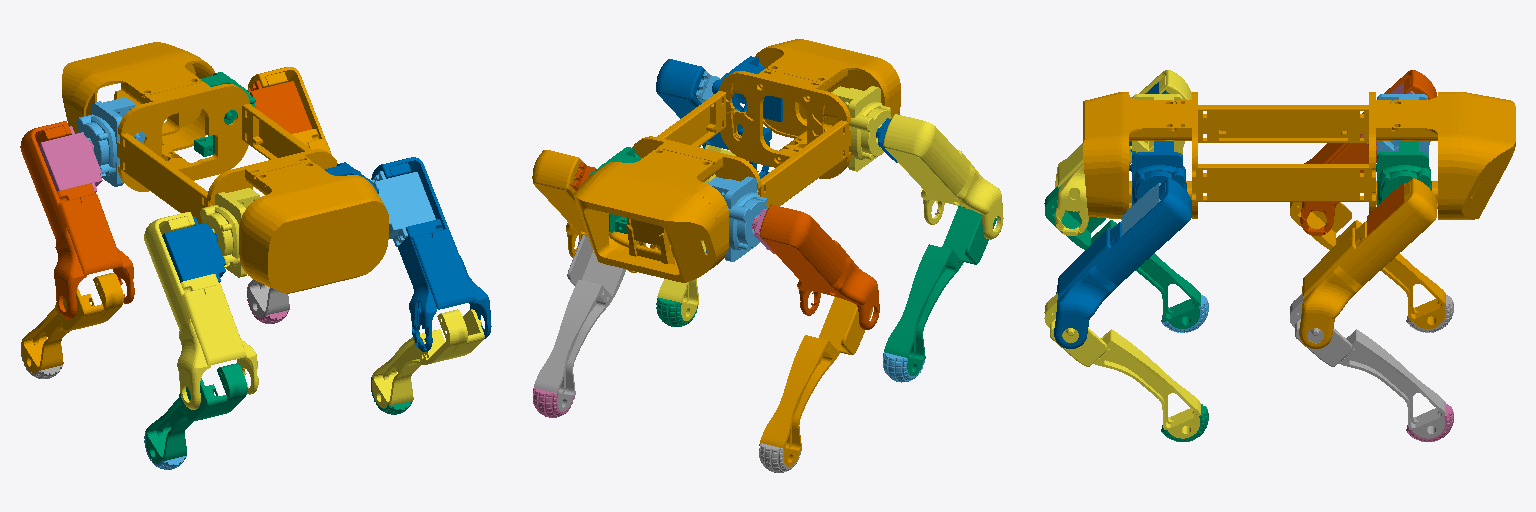
--- Facts derived from the render (not from the file) ---
The picture shows the robot from 3 angles, left to right: view 1: azimuth 30°, elevation 25°; view 2: azimuth 150°, elevation 25°; view 3: azimuth 270°, elevation 25°; orthographic projection.
Robot: spot_mini_3 — 21 links, 20 joints (12 continuous, 8 fixed); root link base_link; default pose: all joints at 0.
Links seen in each view (by area): view 1: base_link, BL_Arm1BL_Upper_Leg1, FL_Arm_11FL_Upper_Leg1, BR_Arm1BR_Upper_Leg1, BR_Arm1BR_lower_Leg1, BL_Arm1BL_lower_Leg_1, FL_Arm_11FL_lower_Leg1, BL_Arm1BL_motor1, FL_Arm_11FL_motor1, BR_Arm1BR_motor1, FL_Arm_11FL_shoulder1, BL_Arm1BL_shoulder1 (+4 smaller); view 2: base_link, FL_Arm_11FL_Upper_Leg1, BL_Arm1BL_Upper_Leg1, BL_Arm1BL_lower_Leg_1, FL_Arm_11FL_lower_Leg1, FR_Arm1FR_lower_Leg1, FR_Arm1FR_Upper_Leg1, BL_Arm1BL_shoulder1, FL_Arm_11FL_shoulder1, BR_Arm1BR_Upper_Leg1, BR_Arm1BR_shoulder1, BR_Arm1BR_lower_Leg1 (+5 smaller); view 3: base_link, BR_Arm1BR_Upper_Leg1, FR_Arm1FR_Upper_Leg1, BR_Arm1BR_lower_Leg1, FR_Arm1FR_lower_Leg1, FL_Arm_11FL_lower_Leg1, BL_Arm1BL_lower_Leg_1, BL_Arm1BL_Upper_Leg1, FL_Arm_11FL_Upper_Leg1, BR_Arm1BR_shoulder1, FR_Arm1FR_shoulder1, FR_Arm1FR_motor1 (+3 smaller).
Boxes of the visible links, <box> form: base_link: <box>62,42,388,293</box>; BL_Arm1BL_Upper_Leg1: <box>144,212,258,409</box>; FL_Arm_11FL_Upper_Leg1: <box>20,121,134,318</box>; BR_Arm1BR_Upper_Leg1: <box>371,157,491,351</box>; BR_Arm1BR_lower_Leg1: <box>372,309,484,408</box>; BL_Arm1BL_lower_Leg_1: <box>145,363,247,463</box>; FL_Arm_11FL_lower_Leg1: <box>22,273,123,372</box>; BL_Arm1BL_motor1: <box>162,217,225,282</box>; FL_Arm_11FL_motor1: <box>38,126,102,192</box>; BR_Arm1BR_motor1: <box>372,171,435,246</box>; FL_Arm_11FL_shoulder1: <box>76,97,145,186</box>; BL_Arm1BL_shoulder1: <box>200,188,259,277</box>; base_link: <box>574,39,900,282</box>; FL_Arm_11FL_Upper_Leg1: <box>760,204,879,329</box>; BL_Arm1BL_Upper_Leg1: <box>883,114,1003,239</box>; BL_Arm1BL_lower_Leg_1: <box>884,206,996,375</box>; FL_Arm_11FL_lower_Leg1: <box>760,296,872,466</box>; FR_Arm1FR_lower_Leg1: <box>534,235,626,411</box>; FR_Arm1FR_Upper_Leg1: <box>532,150,646,272</box>; BL_Arm1BL_shoulder1: <box>831,86,891,171</box>; FL_Arm_11FL_shoulder1: <box>706,176,767,261</box>; BR_Arm1BR_Upper_Leg1: <box>656,59,769,178</box>; BR_Arm1BR_shoulder1: <box>712,56,782,142</box>; BR_Arm1BR_lower_Leg1: <box>657,144,748,320</box>; base_link: <box>1083,92,1515,219</box>; BR_Arm1BR_Upper_Leg1: <box>1054,178,1191,348</box>; FR_Arm1FR_Upper_Leg1: <box>1299,178,1436,348</box>; BR_Arm1BR_lower_Leg1: <box>1044,293,1200,438</box>; FR_Arm1FR_lower_Leg1: <box>1290,293,1445,438</box>; FL_Arm_11FL_lower_Leg1: <box>1290,202,1445,328</box>; BL_Arm1BL_lower_Leg_1: <box>1044,186,1200,328</box>; BL_Arm1BL_Upper_Leg1: <box>1055,70,1191,235</box>; FL_Arm_11FL_Upper_Leg1: <box>1300,70,1436,235</box>; BR_Arm1BR_shoulder1: <box>1129,141,1186,205</box>; FR_Arm1FR_shoulder1: <box>1376,141,1431,205</box>; FR_Arm1FR_motor1: <box>1366,183,1405,235</box>.
Bounding box of the posed robot: 0.2546 × 0.3511 × 0.2236 m (x, y, z).
Meshes: 21 distinct files referenced, 21 mesh visuals loaded (21 binary STL).

URDF robot description (spot_mini_3):
<?xml version="1.0" ?>
<robot name="spot_mini_3">

<material name="silver">
  <color rgba="0.700 0.700 0.700 1.000"/>
</material>

<link name="base_link">
  <inertial>
    <origin xyz="0.15055773216211757 0.1546306649325129 0.4145956403783646" rpy="0 0 0"/>
    <mass value="1.5"/>
    <inertia ixx="0.007855785006969873" iyy="0.0010119233592134347" izz="0.00812257204073424" ixy="4.931740771303358e-06" iyz="-7.559534854537087e-05" ixz="-8.42877370531292e-07"/>
  </inertial>
  <visual>
    <origin xyz="0 0 0" rpy="0 0 0"/>
    <geometry>
      <mesh filename="meshes/base_link.stl" scale="0.001 0.001 0.001"/>
    </geometry>
    <material name="silver"/>
    <material/>
  </visual>
  <collision>
    <origin xyz="0 0 0" rpy="0 0 0"/>
    <geometry>
      <mesh filename="meshes/base_link.stl" scale="0.001 0.001 0.001"/>
    </geometry>
  </collision>
</link>

<link name="FL_Arm_11FL_shoulder1">
  <inertial>
    <origin xyz="-0.01226341546823101 0.023797965913628122 -0.01047848981209304" rpy="0 0 0"/>
    <mass value="0.0010460322298815623"/>
    <inertia ixx="4.5894426660159776e-07" iyy="3.9412489574998876e-07" izz="2.4792830692763805e-07" ixy="2.3383310631803865e-08" iyz="1.0697598474640555e-09" ixz="2.6589199819768844e-09"/>
  </inertial>
  <visual>
    <origin xyz="-0.111622 -0.218934 -0.418766" rpy="0 0 0"/>
    <geometry>
      <mesh filename="meshes/FL_Arm_11FL_shoulder1.stl" scale="0.001 0.001 0.001"/>
    </geometry>
    <material name="silver"/>
    <material/>
  </visual>
  <collision>
    <origin xyz="-0.111622 -0.218934 -0.418766" rpy="0 0 0"/>
    <geometry>
      <mesh filename="meshes/FL_Arm_11FL_shoulder1.stl" scale="0.001 0.001 0.001"/>
    </geometry>
  </collision>
</link>

<link name="FR_Arm1FR_shoulder1">
  <inertial>
    <origin xyz="0.01226272266518752 0.023797965913627983 -0.010478492514241933" rpy="0 0 0"/>
    <mass value="0.0010460322298815618"/>
    <inertia ixx="4.5894426660159776e-07" iyy="3.9412489574990744e-07" izz="2.479283069276245e-07" ixy="-2.338331063181403e-08" iyz="1.0697598474640555e-09" ixz="-2.6589199819768844e-09"/>
  </inertial>
  <visual>
    <origin xyz="-0.189622 -0.218934 -0.418766" rpy="0 0 0"/>
    <geometry>
      <mesh filename="meshes/FR_Arm1FR_shoulder1.stl" scale="0.001 0.001 0.001"/>
    </geometry>
    <material name="silver"/>
    <material/>
  </visual>
  <collision>
    <origin xyz="-0.189622 -0.218934 -0.418766" rpy="0 0 0"/>
    <geometry>
      <mesh filename="meshes/FR_Arm1FR_shoulder1.stl" scale="0.001 0.001 0.001"/>
    </geometry>
  </collision>
</link>

<link name="BL_Arm1BL_shoulder1">
  <inertial>
    <origin xyz="-0.012263291259574427 0.02154805695734561 -0.010479404940207604" rpy="0 0 0"/>
    <mass value="0.0010460322298815623"/>
    <inertia ixx="4.5894426660165197e-07" iyy="3.9412489575001586e-07" izz="2.479283069276177e-07" ixy="2.3383310631803865e-08" iyz="1.0697598474572793e-09" ixz="2.6589199819768844e-09"/>
  </inertial>
  <visual>
    <origin xyz="-0.111622 -0.038434 -0.418767" rpy="0 0 0"/>
    <geometry>
      <mesh filename="meshes/BL_Arm1BL_shoulder1.stl" scale="0.001 0.001 0.001"/>
    </geometry>
    <material name="silver"/>
    <material/>
  </visual>
  <collision>
    <origin xyz="-0.111622 -0.038434 -0.418767" rpy="0 0 0"/>
    <geometry>
      <mesh filename="meshes/BL_Arm1BL_shoulder1.stl" scale="0.001 0.001 0.001"/>
    </geometry>
  </collision>
</link>

<link name="BR_Arm1BR_shoulder1">
  <inertial>
    <origin xyz="0.012262846873844435 0.021548056957345726 -0.01047940764235411" rpy="0 0 0"/>
    <mass value="0.0010460322298815618"/>
    <inertia ixx="4.5894426660162487e-07" iyy="3.9412489574998876e-07" izz="2.479283069276177e-07" ixy="-2.338331063180217e-08" iyz="1.0697598474674436e-09" ixz="-2.658919981990437e-09"/>
  </inertial>
  <visual>
    <origin xyz="-0.189622 -0.038434 -0.418767" rpy="0 0 0"/>
    <geometry>
      <mesh filename="meshes/BR_Arm1BR_shoulder1.stl" scale="0.001 0.001 0.001"/>
    </geometry>
    <material name="silver"/>
    <material/>
  </visual>
  <collision>
    <origin xyz="-0.189622 -0.038434 -0.418767" rpy="0 0 0"/>
    <geometry>
      <mesh filename="meshes/BR_Arm1BR_shoulder1.stl" scale="0.001 0.001 0.001"/>
    </geometry>
  </collision>
</link>

<link name="FL_Arm_11FL_Upper_Leg1">
  <inertial>
    <origin xyz="-0.01800811022483563 -0.011112728510592251 -0.014773561322106554" rpy="0 0 0"/>
    <mass value="0.0035863240208185553"/>
    <inertia ixx="4.407468997596185e-06" iyy="2.68431105878179e-06" izz="2.847838497458202e-06" ixy="-1.235396651983107e-08" iyz="-1.9578915731026402e-06" ixz="-8.752157331336219e-09"/>
  </inertial>
  <visual>
    <origin xyz="-0.069356 -0.223247 -0.386579" rpy="0 0 0"/>
    <geometry>
      <mesh filename="meshes/FL_Arm_11FL_Upper_Leg1.stl" scale="0.001 0.001 0.001"/>
    </geometry>
    <material name="silver"/>
    <material/>
  </visual>
  <collision>
    <origin xyz="-0.069356 -0.223247 -0.386579" rpy="0 0 0"/>
    <geometry>
      <mesh filename="meshes/FL_Arm_11FL_Upper_Leg1.stl" scale="0.001 0.001 0.001"/>
    </geometry>
  </collision>
</link>

<link name="FL_Arm_11FL_motor1">
  <inertial>
    <origin xyz="-0.02803534463866813 -0.007018715988031665 -0.007018198166182044" rpy="0 0 0"/>
    <mass value="0.08567670259846816"/>
    <inertia ixx="1.4918093587314163e-05" iyy="1.8254630334708574e-05" izz="1.8254629313898402e-05" ixy="-3.2162770326454176e-07" iyz="-4.640045534682127e-06" ixz="-3.216275840200837e-07"/>
  </inertial>
  <visual>
    <origin xyz="-0.090322 -0.244689 -0.408021" rpy="0 0 0"/>
    <geometry>
      <mesh filename="meshes/FL_Arm_11FL_motor1.stl" scale="0.001 0.001 0.001"/>
    </geometry>
    <material name="silver"/>
    <material/>
  </visual>
  <collision>
    <origin xyz="-0.090322 -0.244689 -0.408021" rpy="0 0 0"/>
    <geometry>
      <mesh filename="meshes/FL_Arm_11FL_motor1.stl" scale="0.001 0.001 0.001"/>
    </geometry>
  </collision>
</link>

<link name="FL_Arm_11FL_Foot1">
  <inertial>
    <origin xyz="0.010005471260456554 0.004552095230761277 -0.008934825902760207" rpy="0 0 0"/>
    <mass value="0.003237400185672279"/>
    <inertia ixx="5.216745834557904e-07" iyy="2.3994666300297435e-07" izz="4.5003731953156345e-07" ixy="4.0127948336963256e-10" iyz="-1.3731836157228209e-07" ixz="1.360930547536542e-10"/>
  </inertial>
  <friction value= "0.5"/>
  <visual>
    <origin xyz="-0.044152 -0.262021 -0.24057" rpy="0 0 0"/>
    <geometry>
      <mesh filename="meshes/FL_Arm_11FL_Foot1.stl" scale="0.001 0.001 0.001"/>
    </geometry>
    <material name="silver"/>
    <material/>
  </visual>
  <collision>
    <origin xyz="-0.044152 -0.262021 -0.24057" rpy="0 0 0"/>
    <geometry>
      <mesh filename="meshes/FL_Arm_11FL_Foot1.stl" scale="0.001 0.001 0.001"/>
    </geometry>
  </collision>
</link>

<link name="FL_Arm_11FL_lower_Leg1">
  <inertial>
    <origin xyz="0.02406399499544222 0.03648480959383599 -0.03746448422327797" rpy="0 0 0"/>
    <mass value="0.0012931113059198964"/>
    <inertia ixx="3.034781363453037e-06" iyy="1.3897431509676941e-06" izz="1.8233444936489792e-06" ixy="-1.147149831584017e-07" iyz="1.4079004592485014e-06" ixz="9.205990545020401e-08"/>
  </inertial>
  <visual>
    <origin xyz="-0.027254 -0.178487 -0.321776" rpy="0 0 0"/>
    <geometry>
      <mesh filename="meshes/FL_Arm_11FL_lower_Leg1.stl" scale="0.001 0.001 0.001"/>
    </geometry>
    <material name="silver"/>
    <material/>
  </visual>
  <collision>
    <origin xyz="-0.027254 -0.178487 -0.321776" rpy="0 0 0"/>
    <geometry>
      <mesh filename="meshes/FL_Arm_11FL_lower_Leg1.stl" scale="0.001 0.001 0.001"/>
    </geometry>
  </collision>
</link>

<link name="BL_Arm1BL_Foot1">
  <inertial>
    <origin xyz="0.010005595469113282 0.004552186274480299 -0.008934741030875215" rpy="0 0 0"/>
    <mass value="0.003237400185672279"/>
    <inertia ixx="5.216745834555735e-07" iyy="2.399466630031099e-07" izz="4.500373195315228e-07" ixy="4.0127948339504355e-10" iyz="-1.3731836157224143e-07" ixz="1.3609305474687793e-10"/>
  </inertial>
  <friction value= "0.5"/>
  <visual>
    <origin xyz="-0.044152 -0.079271 -0.24057" rpy="0 0 0"/>
    <geometry>
      <mesh filename="meshes/BL_Arm1BL_Foot1.stl" scale="0.001 0.001 0.001"/>
    </geometry>
    <material name="silver"/>
    <material/>
  </visual>
  <collision>
    <origin xyz="-0.044152 -0.079271 -0.24057" rpy="0 0 0"/>
    <geometry>
      <mesh filename="meshes/BL_Arm1BL_Foot1.stl" scale="0.001 0.001 0.001"/>
    </geometry>
  </collision>
</link>

<link name="BL_Arm1BL_lower_Leg_1">
  <inertial>
    <origin xyz="0.024064119204098594 0.03648490063755493 -0.03746439935139362" rpy="0 0 0"/>
    <mass value="0.0012931113059198964"/>
    <inertia ixx="3.0347813634531453e-06" iyy="1.3897431509678974e-06" izz="1.823344493648814e-06" ixy="-1.1471498315836485e-07" iyz="1.4079004592484743e-06" ixz="9.205990545024467e-08"/>
  </inertial>
  <visual>
    <origin xyz="-0.027254 0.004263 -0.321776" rpy="0 0 0"/>
    <geometry>
      <mesh filename="meshes/BL_Arm1BL_lower_Leg_1.stl" scale="0.001 0.001 0.001"/>
    </geometry>
    <material name="silver"/>
    <material/>
  </visual>
  <collision>
    <origin xyz="-0.027254 0.004263 -0.321776" rpy="0 0 0"/>
    <geometry>
      <mesh filename="meshes/BL_Arm1BL_lower_Leg_1.stl" scale="0.001 0.001 0.001"/>
    </geometry>
  </collision>
</link>

<link name="BL_Arm1BL_Upper_Leg1">
  <inertial>
    <origin xyz="-0.01800898601617898 -0.011112637466874527 -0.014773476450221923" rpy="0 0 0"/>
    <mass value="0.0035863240208185553"/>
    <inertia ixx="4.407468997596293e-06" iyy="2.684311058782549e-06" izz="2.847838497457841e-06" ixy="-1.2353966519835305e-08" iyz="-1.9578915731024166e-06" ixz="-8.752157331309114e-09"/>
  </inertial>
  <visual>
    <origin xyz="-0.069357 -0.040497 -0.386579" rpy="0 0 0"/>
    <geometry>
      <mesh filename="meshes/BL_Arm1BL_Upper_Leg1.stl" scale="0.001 0.001 0.001"/>
    </geometry>
    <material name="silver"/>
    <material/>
  </visual>
  <collision>
    <origin xyz="-0.069357 -0.040497 -0.386579" rpy="0 0 0"/>
    <geometry>
      <mesh filename="meshes/BL_Arm1BL_Upper_Leg1.stl" scale="0.001 0.001 0.001"/>
    </geometry>
  </collision>
</link>

<link name="BL_Arm1BL_motor1">
  <inertial>
    <origin xyz="-0.028035220430011512 -0.007018624944314121 -0.007019113294296497" rpy="0 0 0"/>
    <mass value="0.08567670259846816"/>
    <inertia ixx="1.4918093587310693e-05" iyy="1.825463033470684e-05" izz="1.825462931389775e-05" ixy="-3.216277032642707e-07" iyz="-4.640045534682344e-06" ixz="-3.216275840200837e-07"/>
  </inertial>
  <visual>
    <origin xyz="-0.090322 -0.061939 -0.408022" rpy="0 0 0"/>
    <geometry>
      <mesh filename="meshes/BL_Arm1BL_motor1.stl" scale="0.001 0.001 0.001"/>
    </geometry>
    <material name="silver"/>
    <material/>
  </visual>
  <collision>
    <origin xyz="-0.090322 -0.061939 -0.408022" rpy="0 0 0"/>
    <geometry>
      <mesh filename="meshes/BL_Arm1BL_motor1.stl" scale="0.001 0.001 0.001"/>
    </geometry>
  </collision>
</link>

<link name="FR_Arm1FR_motor1">
  <inertial>
    <origin xyz="0.028035177551856305 -0.007018715817410703 -0.007018200687619824" rpy="0 0 0"/>
    <mass value="0.08567670473779747"/>
    <inertia ixx="1.4918093914139535e-05" iyy="1.8254631175378122e-05" izz="1.825463017092986e-05" ixy="3.216273783629778e-07" iyz="-4.640045682827512e-06" ixz="3.2162727459442153e-07"/>
  </inertial>
  <visual>
    <origin xyz="-0.210921 -0.244689 -0.408021" rpy="0 0 0"/>
    <geometry>
      <mesh filename="meshes/FR_Arm1FR_motor1.stl" scale="0.001 0.001 0.001"/>
    </geometry>
    <material name="silver"/>
    <material/>
  </visual>
  <collision>
    <origin xyz="-0.210921 -0.244689 -0.408021" rpy="0 0 0"/>
    <geometry>
      <mesh filename="meshes/FR_Arm1FR_motor1.stl" scale="0.001 0.001 0.001"/>
    </geometry>
  </collision>
</link>

<link name="FR_Arm1FR_Foot1">
  <inertial>
    <origin xyz="-0.01000301599464648 0.004552296630410901 -0.008935514192143057" rpy="0 0 0"/>
    <mass value="0.0032370800830491702"/>
    <inertia ixx="5.215637352757089e-07" iyy="2.398877784611192e-07" izz="4.4996323747634875e-07" ixy="-3.202765609959437e-10" iyz="-1.3730099257240765e-07" ixz="-1.8271967654735245e-10"/>
  </inertial>
  <friction value= "0.5"/>
  <visual>
    <origin xyz="-0.257091 -0.262021 -0.24057" rpy="0 0 0"/>
    <geometry>
      <mesh filename="meshes/FR_Arm1FR_Foot1.stl" scale="0.001 0.001 0.001"/>
    </geometry>
    <material name="silver"/>
    <material/>
  </visual>
  <collision>
    <origin xyz="-0.257091 -0.262021 -0.24057" rpy="0 0 0"/>
    <geometry>
      <mesh filename="meshes/FR_Arm1FR_Foot1.stl" scale="0.001 0.001 0.001"/>
    </geometry>
  </collision>
</link>

<link name="FR_Arm1FR_lower_Leg1">
  <inertial>
    <origin xyz="-0.02406416163530381 0.03648480997630493 -0.037464486542955866" rpy="0 0 0"/>
    <mass value="0.0012931113059199838"/>
    <inertia ixx="3.0347813634531453e-06" iyy="1.3897431509674366e-06" izz="1.8233444936496433e-06" ixy="1.1471498315821535e-07" iyz="1.4079004592482982e-06" ixz="-9.205990545007865e-08"/>
  </inertial>
  <visual>
    <origin xyz="-0.273989 -0.178487 -0.321776" rpy="0 0 0"/>
    <geometry>
      <mesh filename="meshes/FR_Arm1FR_lower_Leg1.stl" scale="0.001 0.001 0.001"/>
    </geometry>
    <material name="silver"/>
    <material/>
  </visual>
  <collision>
    <origin xyz="-0.273989 -0.178487 -0.321776" rpy="0 0 0"/>
    <geometry>
      <mesh filename="meshes/FR_Arm1FR_lower_Leg1.stl" scale="0.001 0.001 0.001"/>
    </geometry>
  </collision>
</link>

<link name="FR_Arm1FR_Upper_Leg1">
  <inertial>
    <origin xyz="0.018008925063041553 -0.011112696813045164 -0.014773497523763668" rpy="0 0 0"/>
    <mass value="0.0035863185548493546"/>
    <inertia ixx="4.407454092536793e-06" iyy="2.6842975551357806e-06" izz="2.8478344159721847e-06" ixy="1.2353075981835077e-08" iyz="-1.95788646826031e-06" ixz="8.749586127777993e-09"/>
  </inertial>
  <visual>
    <origin xyz="-0.231886 -0.223247 -0.386579" rpy="0 0 0"/>
    <geometry>
      <mesh filename="meshes/FR_Arm1FR_Upper_Leg1.stl" scale="0.001 0.001 0.001"/>
    </geometry>
    <material name="silver"/>
    <material/>
  </visual>
  <collision>
    <origin xyz="-0.231886 -0.223247 -0.386579" rpy="0 0 0"/>
    <geometry>
      <mesh filename="meshes/FR_Arm1FR_Upper_Leg1.stl" scale="0.001 0.001 0.001"/>
    </geometry>
  </collision>
</link>

<link name="BR_Arm1BR_motor1">
  <inertial>
    <origin xyz="0.028035301760513387 -0.007018624773692916 -0.00701911581573178" rpy="0 0 0"/>
    <mass value="0.08567670473779747"/>
    <inertia ixx="1.4918093914136066e-05" iyy="1.825463117538159e-05" izz="1.825463017093073e-05" ixy="3.216273783631946e-07" iyz="-4.640045682824693e-06" ixz="3.2162727459442153e-07"/>
  </inertial>
  <visual>
    <origin xyz="-0.210921 -0.061939 -0.408022" rpy="0 0 0"/>
    <geometry>
      <mesh filename="meshes/BR_Arm1BR_motor1.stl" scale="0.001 0.001 0.001"/>
    </geometry>
    <material name="silver"/>
    <material/>
  </visual>
  <collision>
    <origin xyz="-0.210921 -0.061939 -0.408022" rpy="0 0 0"/>
    <geometry>
      <mesh filename="meshes/BR_Arm1BR_motor1.stl" scale="0.001 0.001 0.001"/>
    </geometry>
  </collision>
</link>

<link name="BR_Arm1BR_Foot1">
  <inertial>
    <origin xyz="-0.010002891785989704 0.004552387674128369 -0.008935429320254873" rpy="0 0 0"/>
    <mass value="0.0032370800830491702"/>
    <inertia ixx="5.21563735275492e-07" iyy="2.398877784612818e-07" izz="4.4996323747637586e-07" ixy="-3.2027656102304874e-10" iyz="-1.3730099257246186e-07" ixz="-1.8271967654735245e-10"/>
  </inertial>
  <friction value= "0.5"/>
  <visual>
    <origin xyz="-0.257091 -0.079271 -0.24057" rpy="0 0 0"/>
    <geometry>
      <mesh filename="meshes/BR_Arm1BR_Foot1.stl" scale="0.001 0.001 0.001"/>
    </geometry>
    <material name="silver"/>
    <material/>
  </visual>
  <collision>
    <origin xyz="-0.257091 -0.079271 -0.24057" rpy="0 0 0"/>
    <geometry>
      <mesh filename="meshes/BR_Arm1BR_Foot1.stl" scale="0.001 0.001 0.001"/>
    </geometry>
  </collision>
</link>

<link name="BR_Arm1BR_lower_Leg1">
  <inertial>
    <origin xyz="-0.024064037426646756 0.03648490102002266 -0.03746440167106779" rpy="0 0 0"/>
    <mass value="0.0012931113059199838"/>
    <inertia ixx="3.034781363453091e-06" iyy="1.3897431509651598e-06" izz="1.8233444936497246e-06" ixy="1.1471498315824245e-07" iyz="1.4079004592478136e-06" ixz="-9.205990545011931e-08"/>
  </inertial>
  <visual>
    <origin xyz="-0.273989 0.004263 -0.321776" rpy="0 0 0"/>
    <geometry>
      <mesh filename="meshes/BR_Arm1BR_lower_Leg1.stl" scale="0.001 0.001 0.001"/>
    </geometry>
    <material name="silver"/>
    <material/>
  </visual>
  <collision>
    <origin xyz="-0.273989 0.004263 -0.321776" rpy="0 0 0"/>
    <geometry>
      <mesh filename="meshes/BR_Arm1BR_lower_Leg1.stl" scale="0.001 0.001 0.001"/>
    </geometry>
  </collision>
</link>

<link name="BR_Arm1BR_Upper_Leg1">
  <inertial>
    <origin xyz="0.01800804927169858 -0.011112605769327467 -0.014773412651875262" rpy="0 0 0"/>
    <mass value="0.0035863185548493546"/>
    <inertia ixx="4.407454092535926e-06" iyy="2.6842975551354554e-06" izz="2.847834415972212e-06" ixy="1.23530759818283e-08" iyz="-1.9578864682603508e-06" ixz="8.749586127777993e-09"/>
  </inertial>
  <visual>
    <origin xyz="-0.231887 -0.040497 -0.386579" rpy="0 0 0"/>
    <geometry>
      <mesh filename="meshes/BR_Arm1BR_Upper_Leg1.stl" scale="0.001 0.001 0.001"/>
    </geometry>
    <material name="silver"/>
    <material/>
  </visual>
  <collision>
    <origin xyz="-0.231887 -0.040497 -0.386579" rpy="0 0 0"/>
    <geometry>
      <mesh filename="meshes/BR_Arm1BR_Upper_Leg1.stl" scale="0.001 0.001 0.001"/>
    </geometry>
  </collision>
</link>

<joint name="Rev1" type="continuous">
  <origin xyz="0.111622 0.218934 0.418766" rpy="0 0 0"/>
  <parent link="base_link"/>
  <child link="FL_Arm_11FL_shoulder1"/>
  <axis xyz="-0.0 1.0 -0.0"/>
</joint>
<transmission name="Rev1_tran">
  <type>transmission_interface/SimpleTransmission</type>
  <joint name="Rev1">
    <hardwareInterface>PositionJointInterface</hardwareInterface>
  </joint>
  <actuator name="Rev1_actr">
    <hardwareInterface>PositionJointInterface</hardwareInterface>
    <mechanicalReduction>1</mechanicalReduction>
  </actuator>
</transmission>

<joint name="Rev4" type="continuous">
  <origin xyz="0.189622 0.218934 0.418766" rpy="0 0 0"/>
  <parent link="base_link"/>
  <child link="FR_Arm1FR_shoulder1"/>
  <axis xyz="-0.0 1.0 -0.0"/>
</joint>
<transmission name="Rev4_tran">
  <type>transmission_interface/SimpleTransmission</type>
  <joint name="Rev4">
    <hardwareInterface>PositionJointInterface</hardwareInterface>
  </joint>
  <actuator name="Rev4_actr">
    <hardwareInterface>PositionJointInterface</hardwareInterface>
    <mechanicalReduction>1</mechanicalReduction>
  </actuator>
</transmission>

<joint name="Rev7" type="continuous">
  <origin xyz="0.111622 0.038434 0.418767" rpy="0 0 0"/>
  <parent link="base_link"/>
  <child link="BL_Arm1BL_shoulder1"/>
  <axis xyz="-0.0 1.0 -0.0"/>
</joint>
<transmission name="Rev7_tran">
  <type>transmission_interface/SimpleTransmission</type>
  <joint name="Rev7">
    <hardwareInterface>PositionJointInterface</hardwareInterface>
  </joint>
  <actuator name="Rev7_actr">
    <hardwareInterface>PositionJointInterface</hardwareInterface>
    <mechanicalReduction>1</mechanicalReduction>
  </actuator>
</transmission>

<joint name="Rev10" type="continuous">
  <origin xyz="0.189622 0.038434 0.418767" rpy="0 0 0"/>
  <parent link="base_link"/>
  <child link="BR_Arm1BR_shoulder1"/>
  <axis xyz="-0.0 1.0 -0.0"/>
</joint>
<transmission name="Rev10_tran">
  <type>transmission_interface/SimpleTransmission</type>
  <joint name="Rev10">
    <hardwareInterface>PositionJointInterface</hardwareInterface>
  </joint>
  <actuator name="Rev10_actr">
    <hardwareInterface>PositionJointInterface</hardwareInterface>
    <mechanicalReduction>1</mechanicalReduction>
  </actuator>
</transmission>

<joint name="FL_Arm_11_Rigid1" type="fixed">
  <origin xyz="-0.020966 -0.021442 -0.021442" rpy="0 0 0"/>
  <parent link="FL_Arm_11FL_motor1"/>
  <child link="FL_Arm_11FL_Upper_Leg1"/>
</joint>

<joint name="FL_Arm_11_Rev2" type="continuous">
  <origin xyz="-0.0213 0.025755 -0.010745" rpy="0 0 0"/>
  <parent link="FL_Arm_11FL_shoulder1"/>
  <child link="FL_Arm_11FL_motor1"/>
  <axis xyz="0.999999 0.000807 0.000807"/>
</joint>
<transmission name="FL_Arm_11_Rev2_tran">
  <type>transmission_interface/SimpleTransmission</type>
  <joint name="FL_Arm_11_Rev2">
    <hardwareInterface>PositionJointInterface</hardwareInterface>
  </joint>
  <actuator name="FL_Arm_11_Rev2_actr">
    <hardwareInterface>PositionJointInterface</hardwareInterface>
    <mechanicalReduction>1</mechanicalReduction>
  </actuator>
</transmission>

<joint name="FL_Arm_11_Rigid2" type="fixed">
  <origin xyz="0.016898 0.083534 -0.081206" rpy="0 0 0"/>
  <parent link="FL_Arm_11FL_lower_Leg1"/>
  <child link="FL_Arm_11FL_Foot1"/>
</joint>

<joint name="FL_Arm_11_Rev3" type="continuous">
  <origin xyz="-0.042102 -0.04476 -0.064803" rpy="0 0 0"/>
  <parent link="FL_Arm_11FL_Upper_Leg1"/>
  <child link="FL_Arm_11FL_lower_Leg1"/>
  <axis xyz="0.999999 0.000807 0.000807"/>
</joint>
<transmission name="FL_Arm_11_Rev3_tran">
  <type>transmission_interface/SimpleTransmission</type>
  <joint name="FL_Arm_11_Rev3">
    <hardwareInterface>PositionJointInterface</hardwareInterface>
  </joint>
  <actuator name="FL_Arm_11_Rev3_actr">
    <hardwareInterface>PositionJointInterface</hardwareInterface>
    <mechanicalReduction>1</mechanicalReduction>
  </actuator>
</transmission>

<joint name="BL_Arm1_Rigid3" type="fixed">
  <origin xyz="0.016898 0.083534 -0.081206" rpy="0 0 0"/>
  <parent link="BL_Arm1BL_lower_Leg_1"/>
  <child link="BL_Arm1BL_Foot1"/>
</joint>

<joint name="BL_Arm1_Rev5" type="continuous">
  <origin xyz="-0.042103 -0.04476 -0.064803" rpy="0 0 0"/>
  <parent link="BL_Arm1BL_Upper_Leg1"/>
  <child link="BL_Arm1BL_lower_Leg_1"/>
  <axis xyz="0.999999 0.000807 0.000807"/>
</joint>
<transmission name="BL_Arm1_Rev5_tran">
  <type>transmission_interface/SimpleTransmission</type>
  <joint name="BL_Arm1_Rev5">
    <hardwareInterface>PositionJointInterface</hardwareInterface>
  </joint>
  <actuator name="BL_Arm1_Rev5_actr">
    <hardwareInterface>PositionJointInterface</hardwareInterface>
    <mechanicalReduction>1</mechanicalReduction>
  </actuator>
</transmission>

<joint name="BL_Arm1_Rigid4" type="fixed">
  <origin xyz="-0.020965 -0.021442 -0.021443" rpy="0 0 0"/>
  <parent link="BL_Arm1BL_motor1"/>
  <child link="BL_Arm1BL_Upper_Leg1"/>
</joint>

<joint name="BL_Arm1_Rev6" type="continuous">
  <origin xyz="-0.0213 0.023505 -0.010745" rpy="0 0 0"/>
  <parent link="BL_Arm1BL_shoulder1"/>
  <child link="BL_Arm1BL_motor1"/>
  <axis xyz="0.999999 0.000807 0.000807"/>
</joint>
<transmission name="BL_Arm1_Rev6_tran">
  <type>transmission_interface/SimpleTransmission</type>
  <joint name="BL_Arm1_Rev6">
    <hardwareInterface>PositionJointInterface</hardwareInterface>
  </joint>
  <actuator name="BL_Arm1_Rev6_actr">
    <hardwareInterface>PositionJointInterface</hardwareInterface>
    <mechanicalReduction>1</mechanicalReduction>
  </actuator>
</transmission>

<joint name="FR_Arm1_Rev9" type="continuous">
  <origin xyz="0.021299 0.025755 -0.010745" rpy="0 0 0"/>
  <parent link="FR_Arm1FR_shoulder1"/>
  <child link="FR_Arm1FR_motor1"/>
  <axis xyz="0.999999 -0.000807 -0.000807"/>
</joint>
<transmission name="FR_Arm1_Rev9_tran">
  <type>transmission_interface/SimpleTransmission</type>
  <joint name="FR_Arm1_Rev9">
    <hardwareInterface>PositionJointInterface</hardwareInterface>
  </joint>
  <actuator name="FR_Arm1_Rev9_actr">
    <hardwareInterface>PositionJointInterface</hardwareInterface>
    <mechanicalReduction>1</mechanicalReduction>
  </actuator>
</transmission>

<joint name="FR_Arm1_Rigid5" type="fixed">
  <origin xyz="-0.016898 0.083534 -0.081206" rpy="0 0 0"/>
  <parent link="FR_Arm1FR_lower_Leg1"/>
  <child link="FR_Arm1FR_Foot1"/>
</joint>

<joint name="FR_Arm1_Rev10" type="continuous">
  <origin xyz="0.042103 -0.04476 -0.064803" rpy="0 0 0"/>
  <parent link="FR_Arm1FR_Upper_Leg1"/>
  <child link="FR_Arm1FR_lower_Leg1"/>
  <axis xyz="0.999999 -0.000807 -0.000807"/>
</joint>
<transmission name="FR_Arm1_Rev10_tran">
  <type>transmission_interface/SimpleTransmission</type>
  <joint name="FR_Arm1_Rev10">
    <hardwareInterface>PositionJointInterface</hardwareInterface>
  </joint>
  <actuator name="FR_Arm1_Rev10_actr">
    <hardwareInterface>PositionJointInterface</hardwareInterface>
    <mechanicalReduction>1</mechanicalReduction>
  </actuator>
</transmission>

<joint name="FR_Arm1_Rigid6" type="fixed">
  <origin xyz="0.020965 -0.021442 -0.021442" rpy="0 0 0"/>
  <parent link="FR_Arm1FR_motor1"/>
  <child link="FR_Arm1FR_Upper_Leg1"/>
</joint>

<joint name="BR_Arm1_Rev11" type="continuous">
  <origin xyz="0.021299 0.023505 -0.010745" rpy="0 0 0"/>
  <parent link="BR_Arm1BR_shoulder1"/>
  <child link="BR_Arm1BR_motor1"/>
  <axis xyz="0.999999 -0.000807 -0.000807"/>
</joint>
<transmission name="BR_Arm1_Rev11_tran">
  <type>transmission_interface/SimpleTransmission</type>
  <joint name="BR_Arm1_Rev11">
    <hardwareInterface>PositionJointInterface</hardwareInterface>
  </joint>
  <actuator name="BR_Arm1_Rev11_actr">
    <hardwareInterface>PositionJointInterface</hardwareInterface>
    <mechanicalReduction>1</mechanicalReduction>
  </actuator>
</transmission>

<joint name="BR_Arm1_Rigid7" type="fixed">
  <origin xyz="-0.016898 0.083534 -0.081206" rpy="0 0 0"/>
  <parent link="BR_Arm1BR_lower_Leg1"/>
  <child link="BR_Arm1BR_Foot1"/>
</joint>

<joint name="BR_Arm1_Rev12" type="continuous">
  <origin xyz="0.042102 -0.04476 -0.064803" rpy="0 0 0"/>
  <parent link="BR_Arm1BR_Upper_Leg1"/>
  <child link="BR_Arm1BR_lower_Leg1"/>
  <axis xyz="0.999999 -0.000807 -0.000807"/>
</joint>
<transmission name="BR_Arm1_Rev12_tran">
  <type>transmission_interface/SimpleTransmission</type>
  <joint name="BR_Arm1_Rev12">
    <hardwareInterface>PositionJointInterface</hardwareInterface>
  </joint>
  <actuator name="BR_Arm1_Rev12_actr">
    <hardwareInterface>PositionJointInterface</hardwareInterface>
    <mechanicalReduction>1</mechanicalReduction>
  </actuator>
</transmission>

<joint name="BR_Arm1_Rigid8" type="fixed">
  <origin xyz="0.020966 -0.021442 -0.021443" rpy="0 0 0"/>
  <parent link="BR_Arm1BR_motor1"/>
  <child link="BR_Arm1BR_Upper_Leg1"/>
</joint>

</robot>
